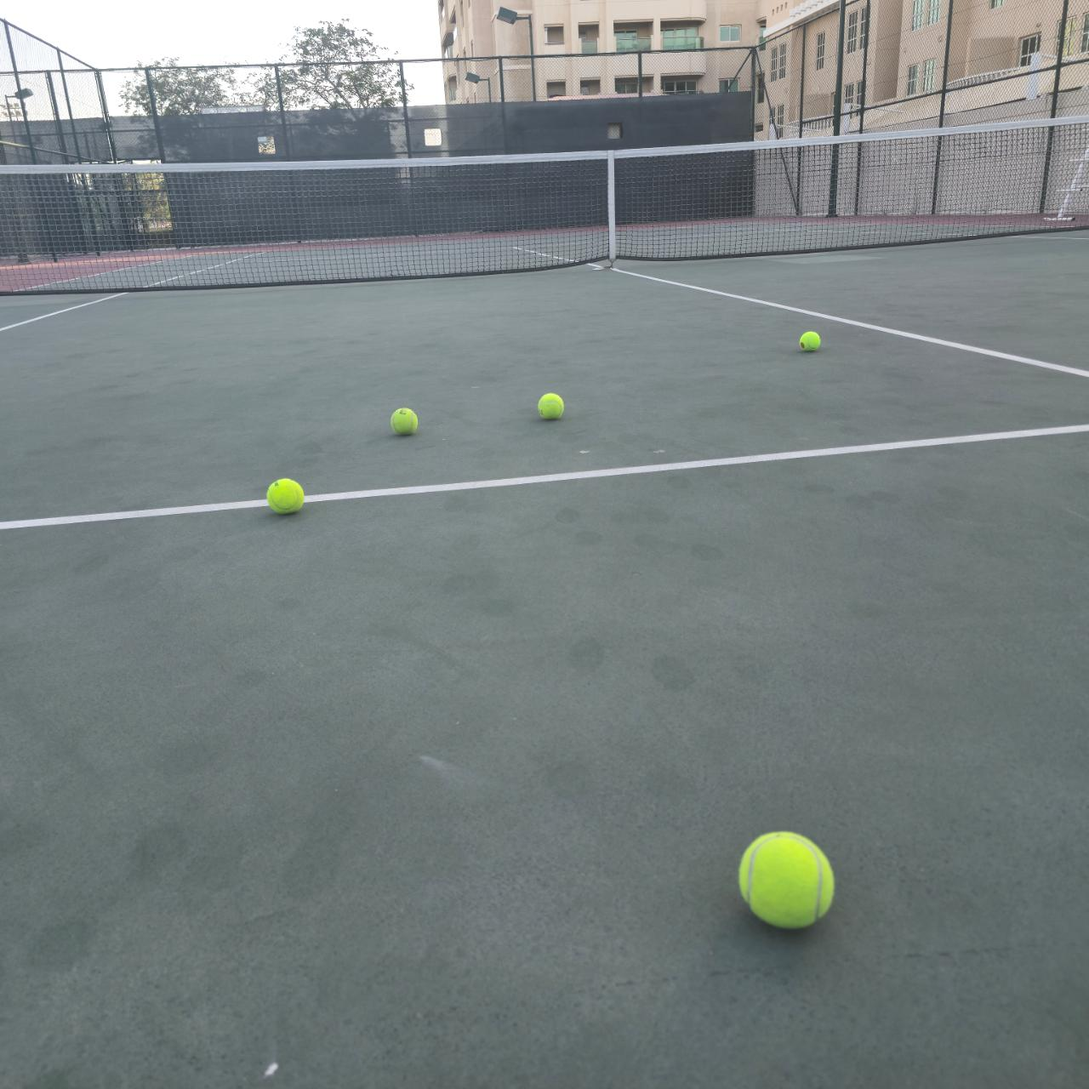tennis-ball: (737, 827, 838, 931), (267, 475, 306, 515), (538, 390, 567, 419), (390, 408, 418, 436), (800, 331, 820, 352)
